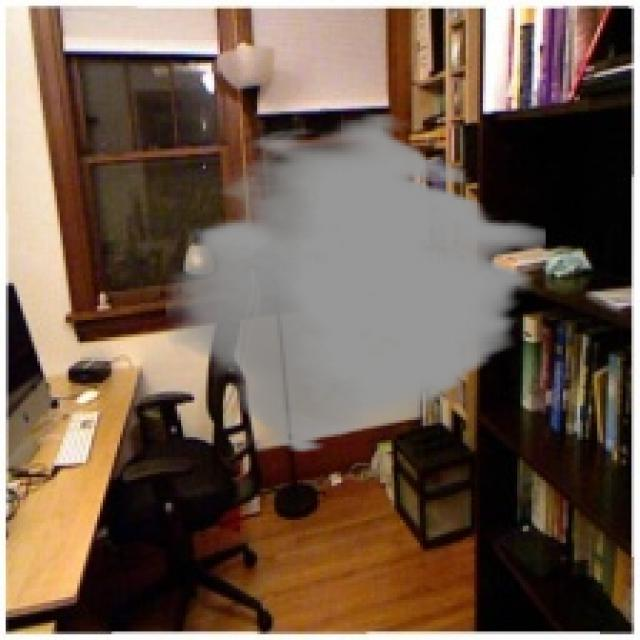smoke: (165, 112, 546, 454)
